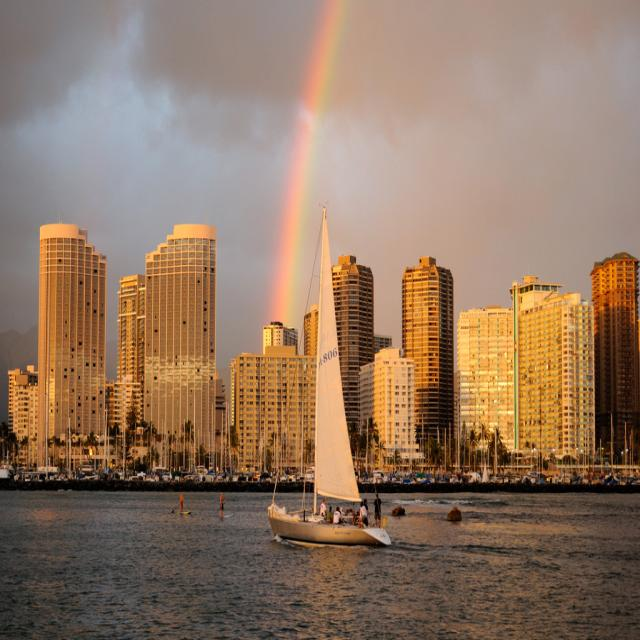Boat: (260, 238, 402, 556)
